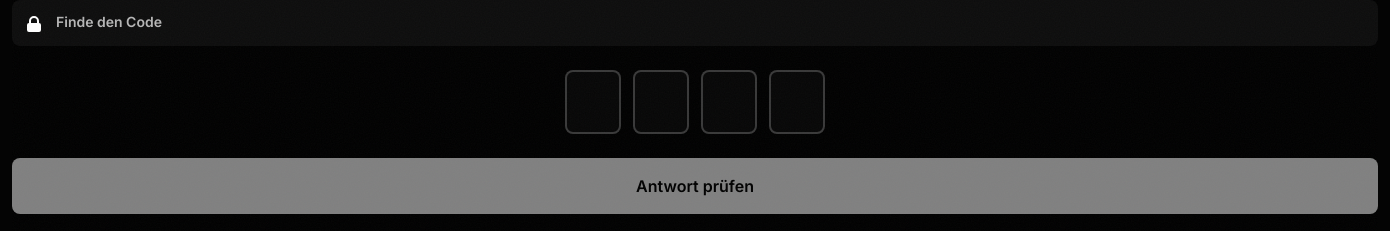
Test: CombinationPuzzle › should enable submit when all fields are filled
The image size is (1390, 231).
Type "A" into the field named "Zeichen 1" at (593, 102), box top-left (565, 70), bottom-right (621, 134)
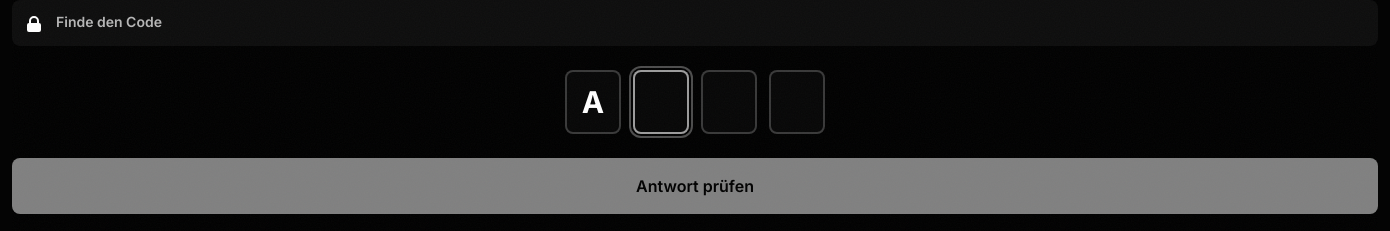
Type "B" into the field named "Zeichen 2" at (661, 102), box top-left (633, 70), bottom-right (689, 134)
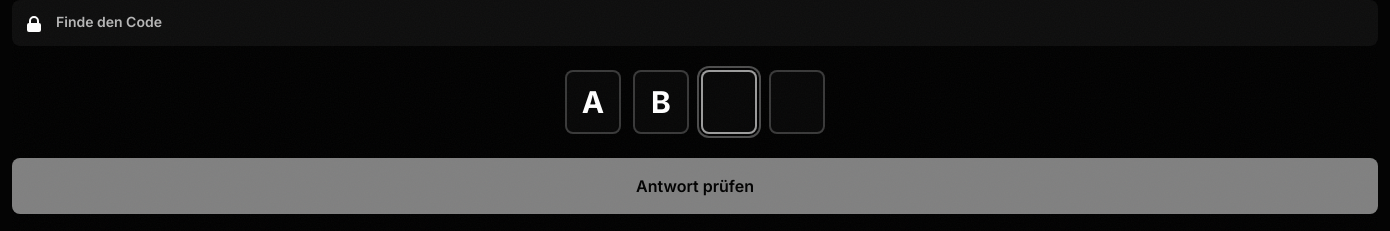
Type "C" into the field named "Zeichen 3" at (729, 102), box top-left (701, 70), bottom-right (757, 134)
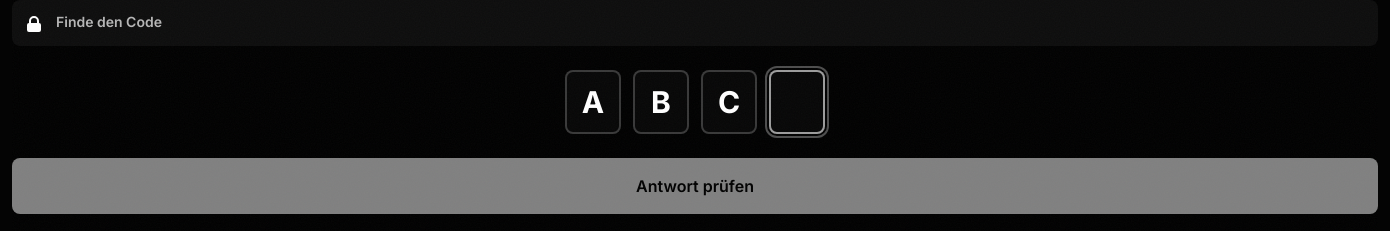
Type "D" into the field named "Zeichen 4" at (797, 102), box top-left (769, 70), bottom-right (825, 134)
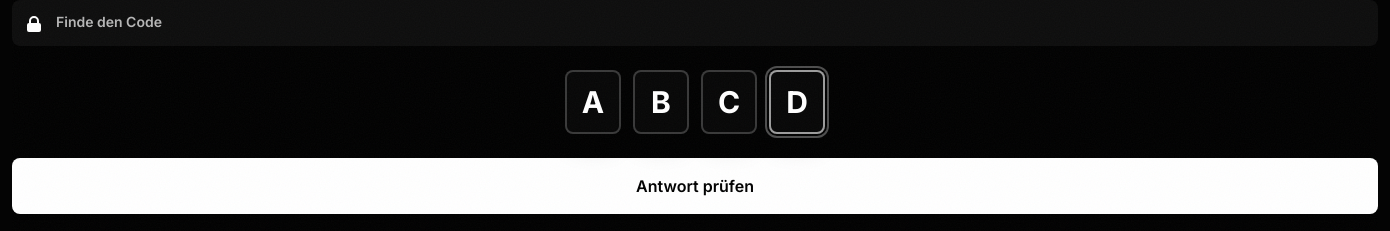
Check: the button "Antwort prüfen" is enabled, box top-left (12, 158), bottom-right (1378, 214)
